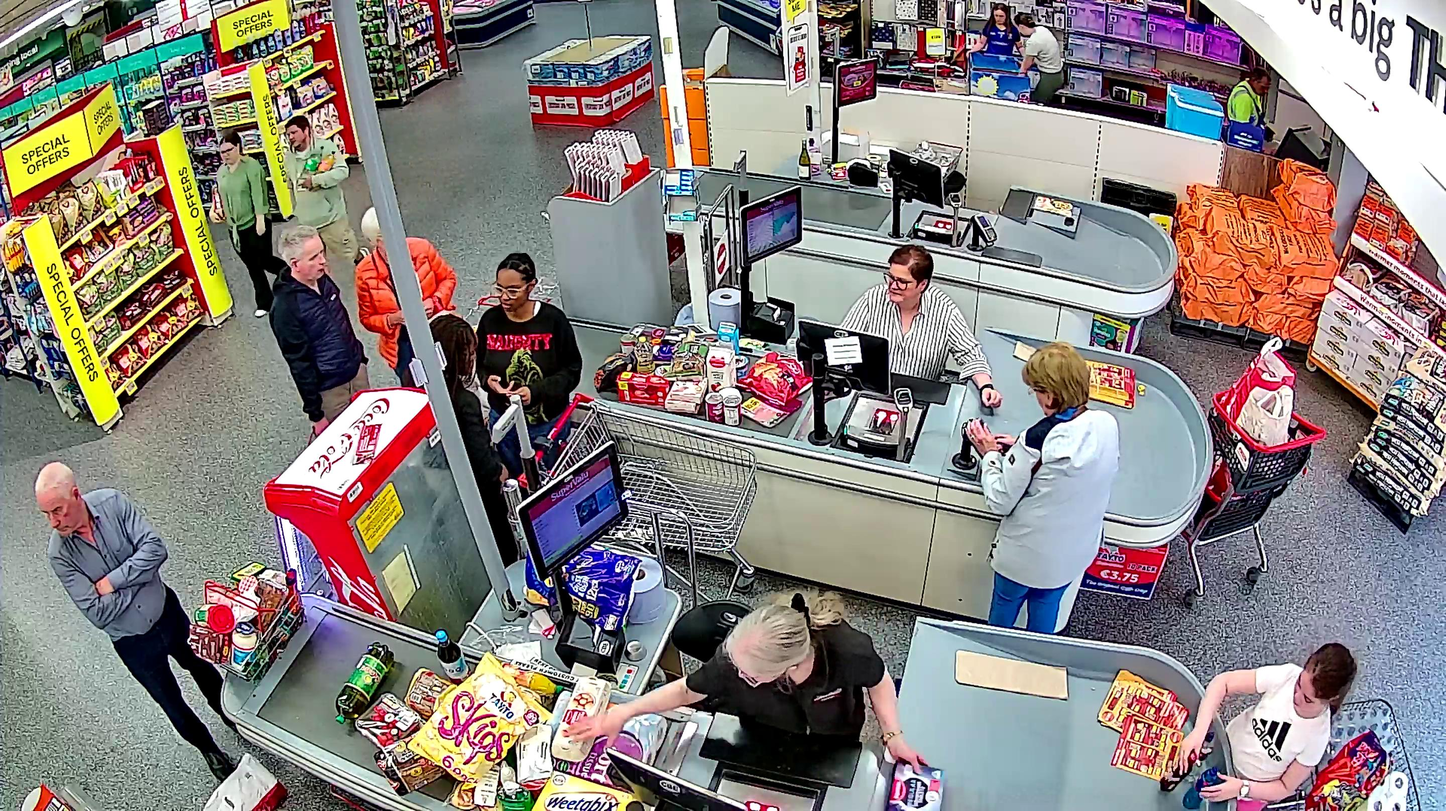carrying-item: (299, 147, 337, 189), (205, 182, 226, 223)
occupied-checkout-counter: (517, 440, 947, 811), (738, 181, 1001, 481)
person: (216, 131, 289, 319), (283, 115, 361, 262)
person-with-carrying-item: (205, 130, 288, 319), (283, 115, 360, 262)
vacant-checkout-counter: (826, 48, 1036, 263)
